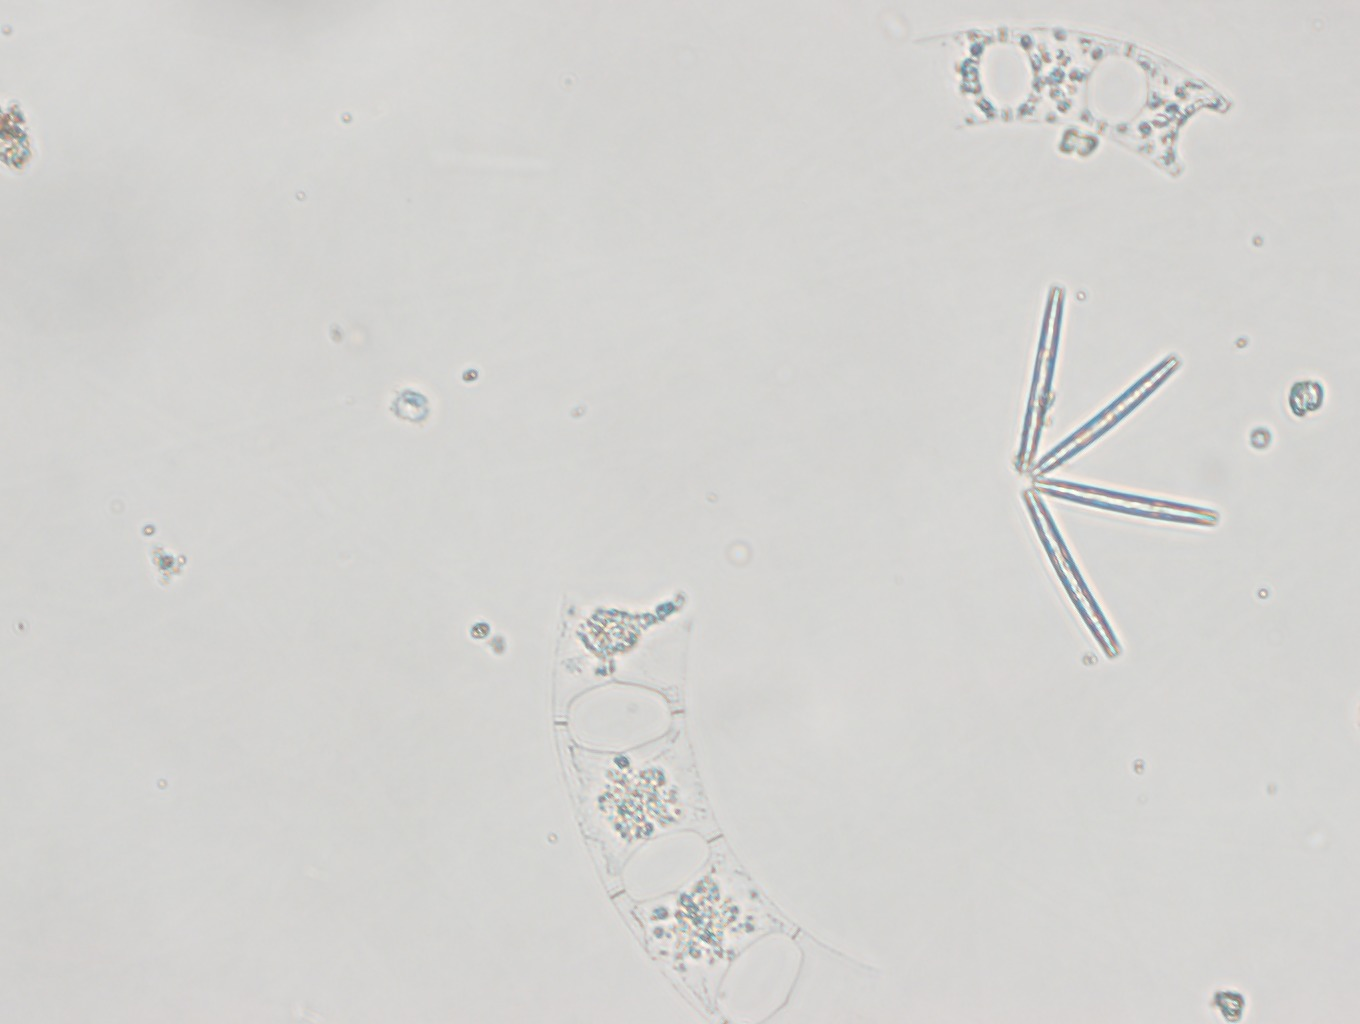eucampia: (553, 588, 891, 1024), (922, 19, 1234, 175)
thalassionema nitzschioides: (1015, 280, 1220, 662)
